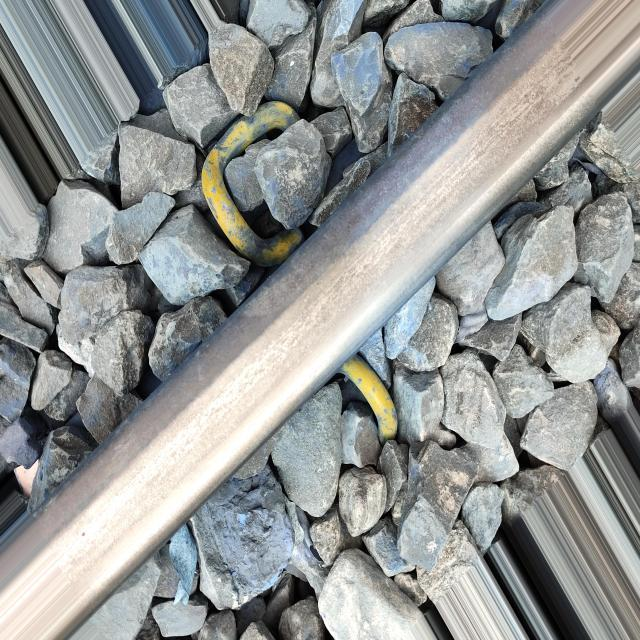Good Fasteners: (201, 102, 299, 266), (341, 355, 397, 445)
